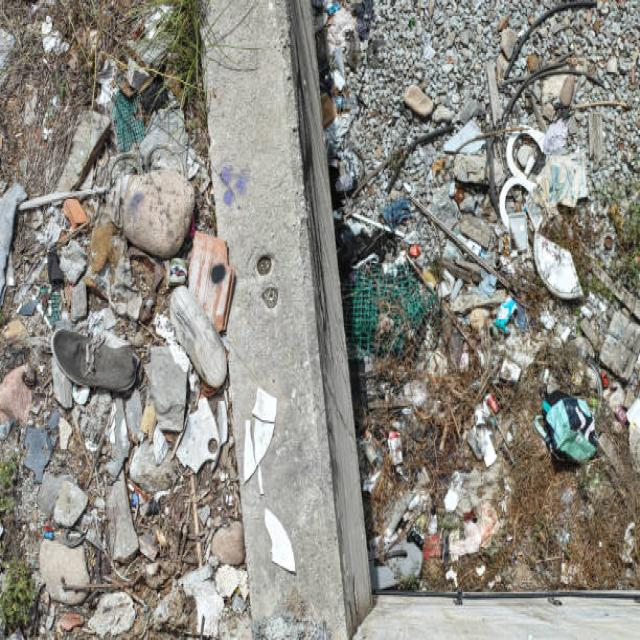trash: (11, 115, 626, 640)
